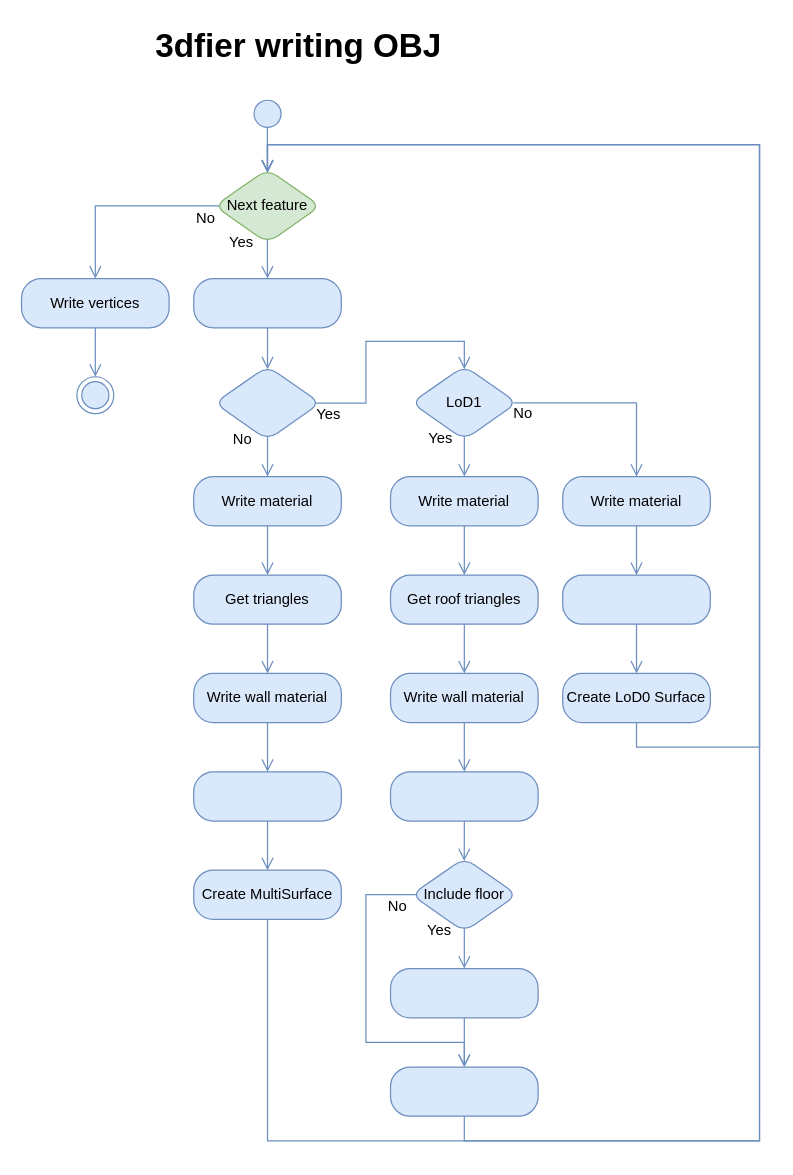
This 793x1175 diagram has some shape labels left out. The centre of each missing label's shape, as x and y in pixels:
Building: the point at 266,402
Create LoD1 Solid: the point at 463,1091
Get floor triangles: the point at 463,992
Get roof triangles with ground height: the point at 635,599
Get vertical triangles: the point at 266,796
Get wall triangles: the point at 463,796
Write object id: the point at 266,302
